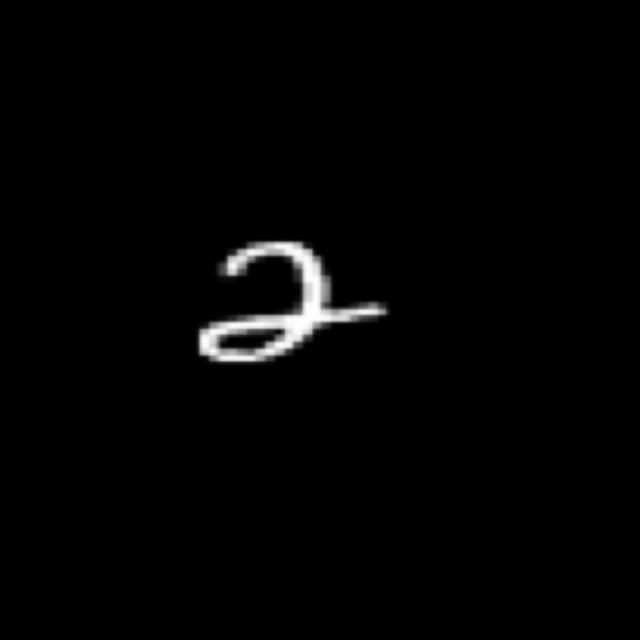two -2-: (181, 232, 398, 366)
